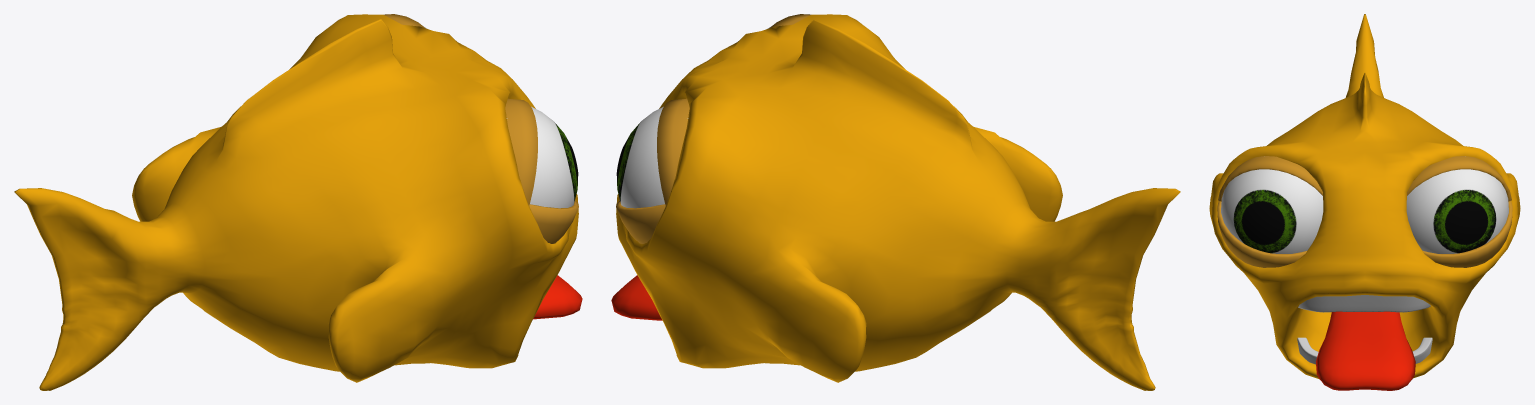
File: Ryba.dae
The picture shows the model from 3 angles, left to right: view 1: azimuth 30°, elevation 25°; view 2: azimuth 150°, elevation 25°; view 3: azimuth 270°, elevation 25°; orthographic projection. The views are drawn at different scales.
Visible parts, largest first — view 1: Ryba; view 2: Ryba; view 3: Ryba.
Part boxes in pixels (box(x1,y1,x2,y2)): Ryba: box(14, 14, 582, 390); Ryba: box(611, 14, 1180, 390); Ryba: box(1209, 14, 1520, 390).
Size of the model in its own units: 4.62 by 3 by 2.85.
5 materials, 1 textured.
